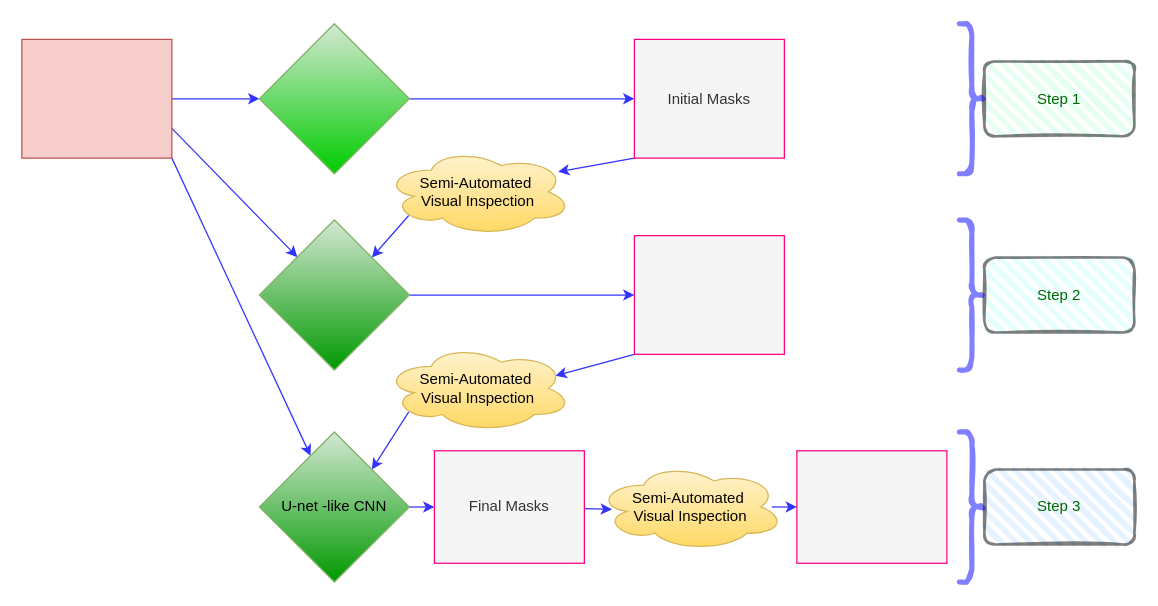
The diagram is 1158 pixels wide and 606 high, and some of its shapes have lost their labels. Here are the shapes that lost their labels. From the top down, the centre of each, then its label:
At pixel 96 98: "Input image".
At pixel 333 98: "Traditional image processing".
At pixel 333 294: "Shallow CNN With Reminder".
At pixel 708 294: "Secondary Masks".
At pixel 871 506: "Pruned Mask Data".
